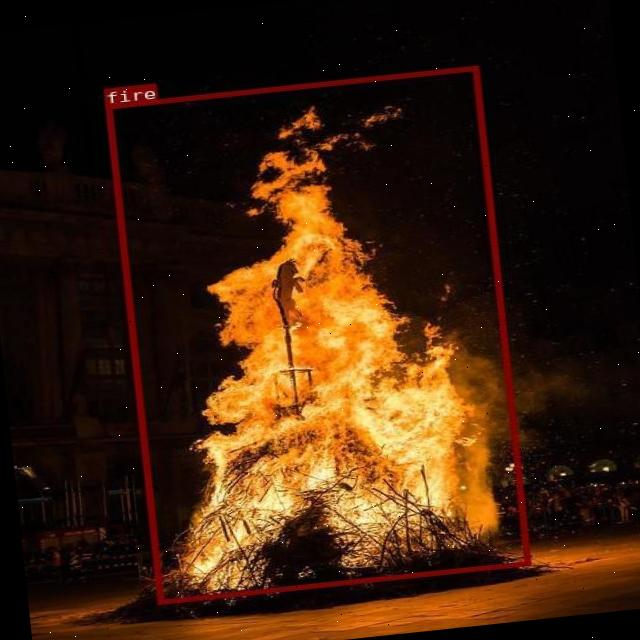fire: (105, 64, 530, 604)
